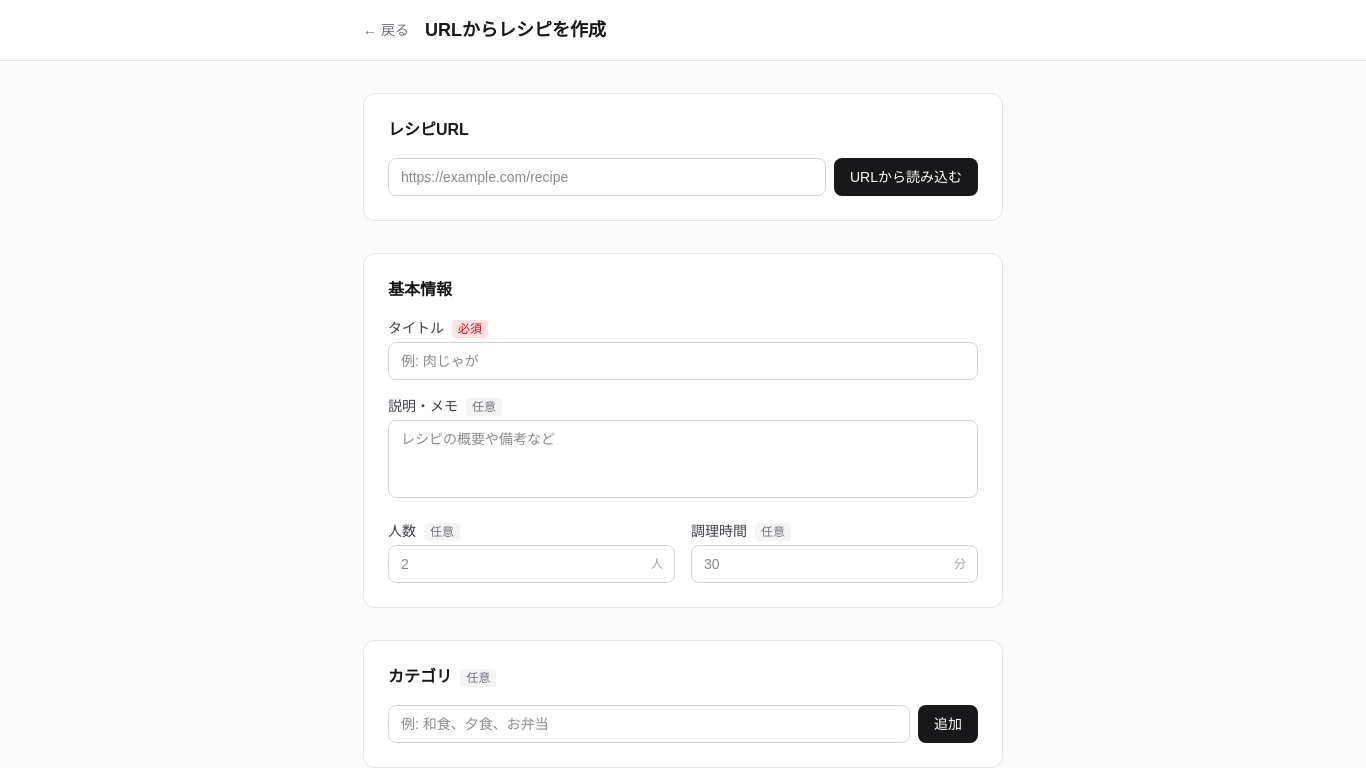
FromUrlPage › URL 空の場合: バリデーションエラーが表示される
Click the button "URLから読み込む" at (906, 177), box [834,158,978,196]
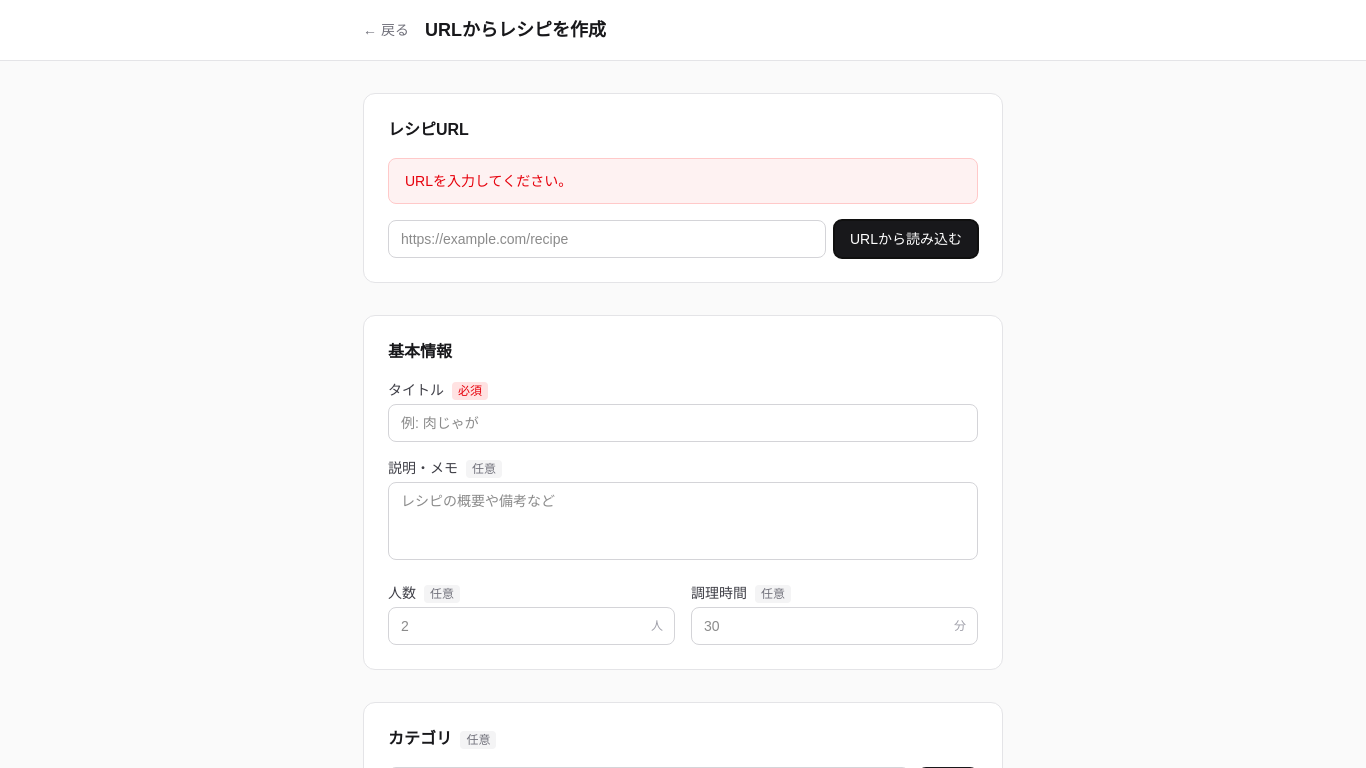
Check: the text "URLを入力してください。" is shown, box [388,158,978,204]
